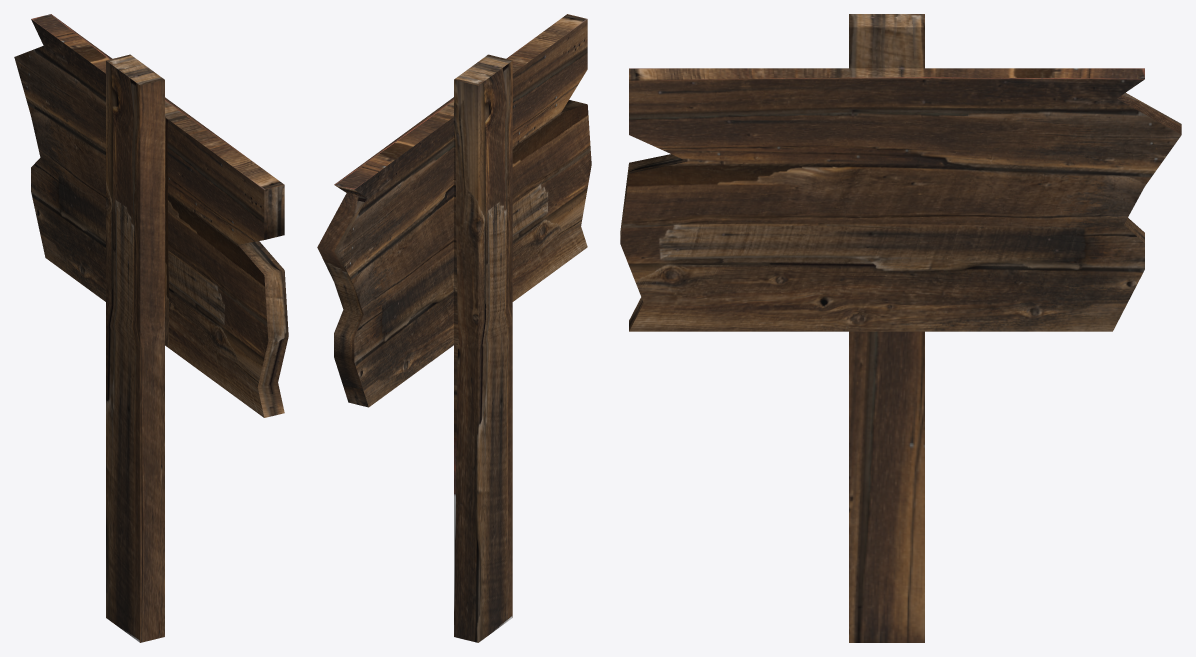
File: sign.fbx
3 renders of one model, left to right at view 1: azimuth 30°, elevation 25°; view 2: azimuth 150°, elevation 25°; view 3: azimuth 270°, elevation 25°, orthographic. The views are drawn at different scales.
Parts seen in each view (by area): view 1: pCube8; view 2: pCube8; view 3: pCube8.
Part boxes in pixels (x1,y1,x2,y2): pCube8: [14, 14, 288, 642]; pCube8: [317, 14, 591, 642]; pCube8: [620, 14, 1181, 642].
Bounding box in the file's own units: 8.86 × 105 × 86.71.
1 material, 1 textured.
